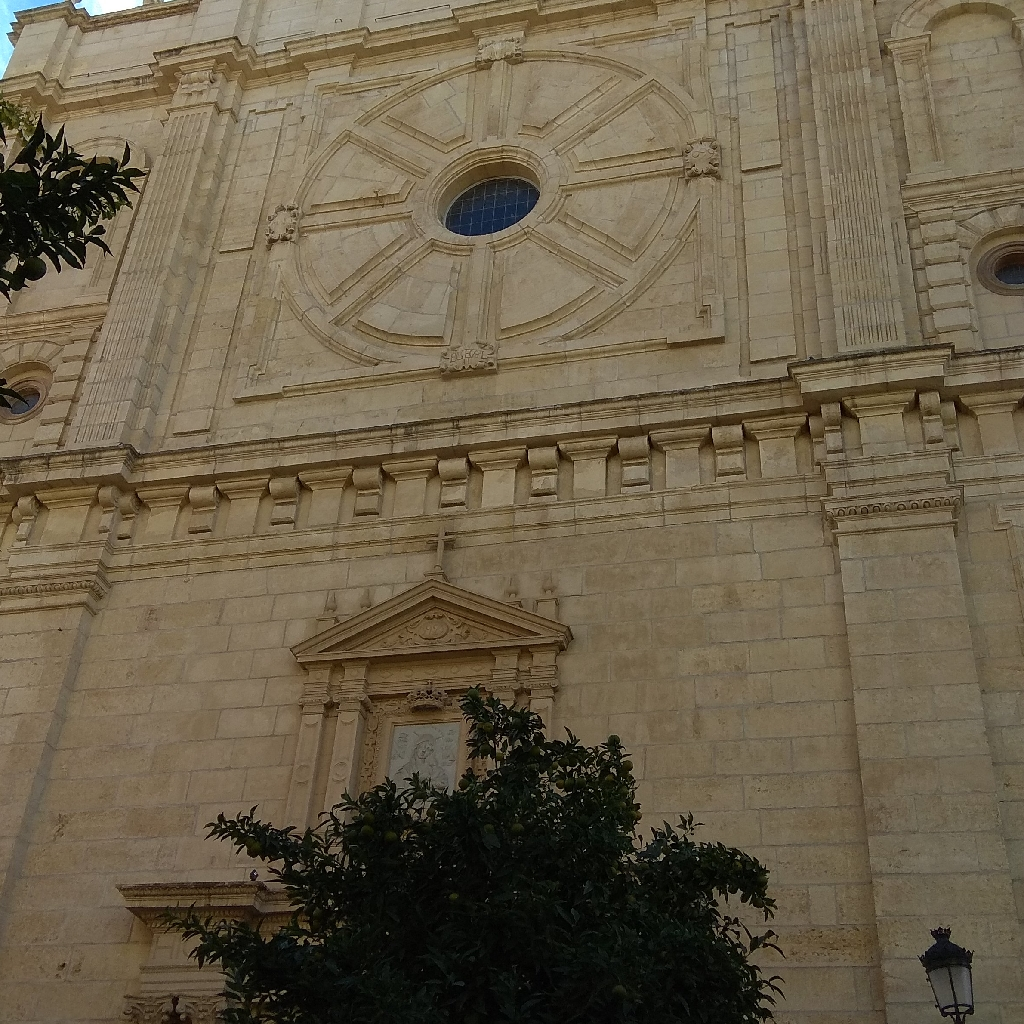fronton: (284, 578, 575, 666)
ojo-de-buey: (434, 157, 544, 238)
